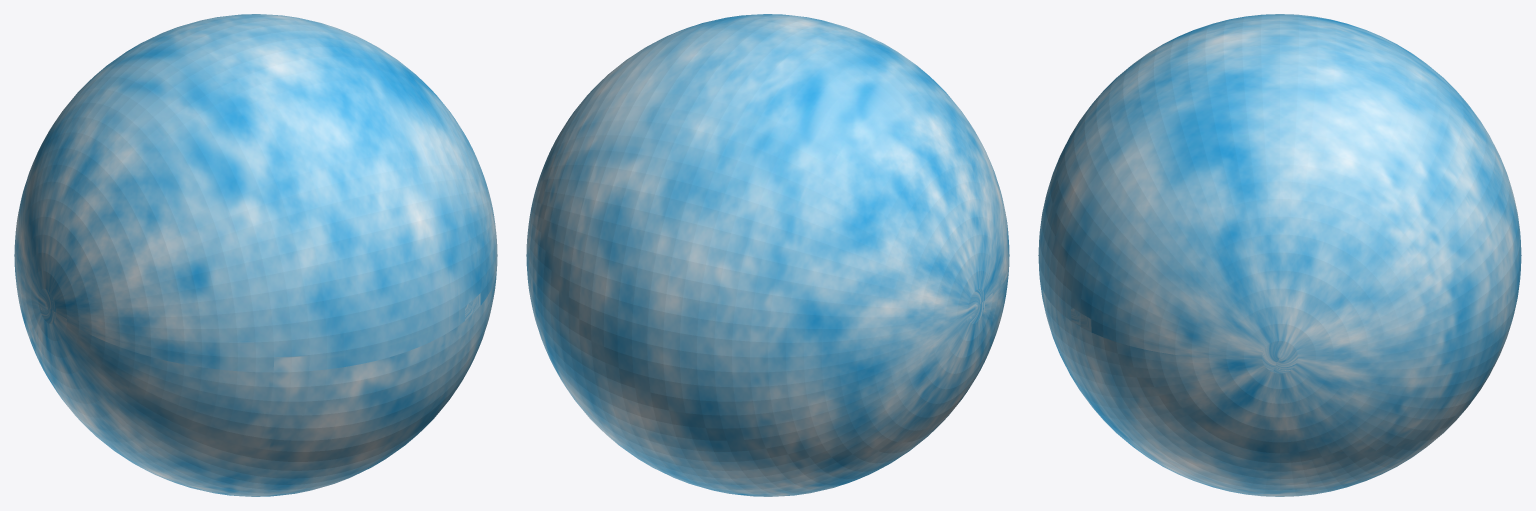
File: skybox.obj
3 views of the same model, side by side, from view 1: azimuth 30°, elevation 25°; view 2: azimuth 150°, elevation 25°; view 3: azimuth 270°, elevation 25° (orthographic).
Parts seen in each view (by area): view 1: Sphere.001; view 2: Sphere.001; view 3: Sphere.001.
Boxes of the visible parts, box(x1,y1,x2,y2) form: Sphere.001: box(14, 14, 497, 496); Sphere.001: box(526, 14, 1009, 496); Sphere.001: box(1038, 14, 1521, 496).
Bounding box in the file's own units: 20 × 20 × 20.
1 material, 1 textured.
